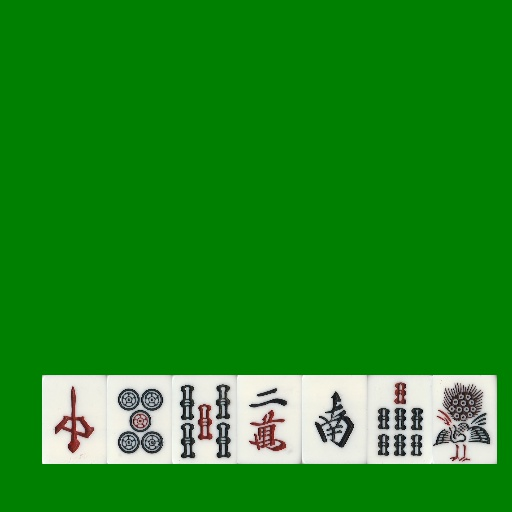1s: (432, 375, 497, 464)
2m: (237, 375, 302, 464)
5p: (107, 375, 172, 464)
5s: (172, 375, 237, 464)
7s: (367, 375, 432, 464)
south: (302, 375, 367, 464)
tyun: (42, 375, 107, 464)
